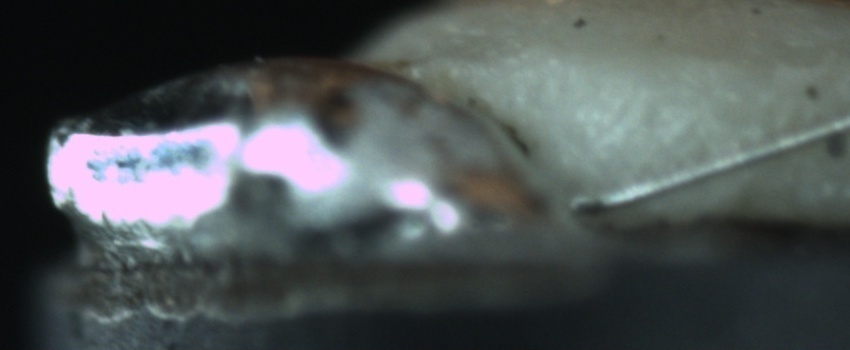TS: (568, 114, 849, 216)
